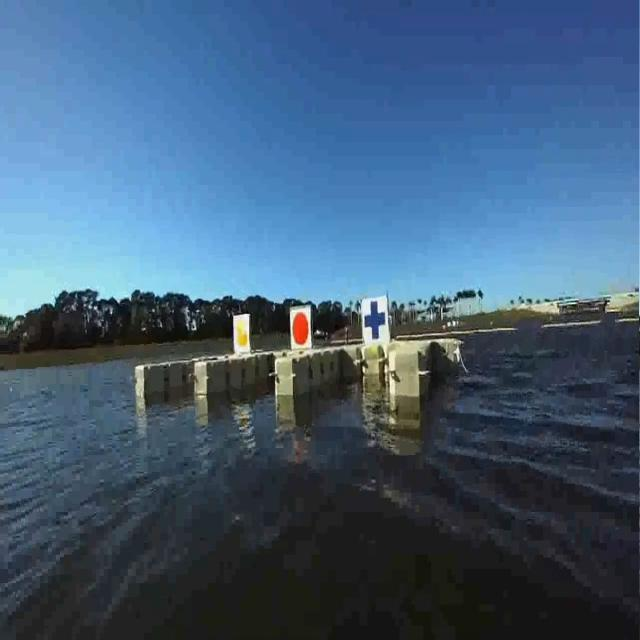blue-cross: (356, 296, 389, 342)
red-dot: (292, 314, 310, 347)
